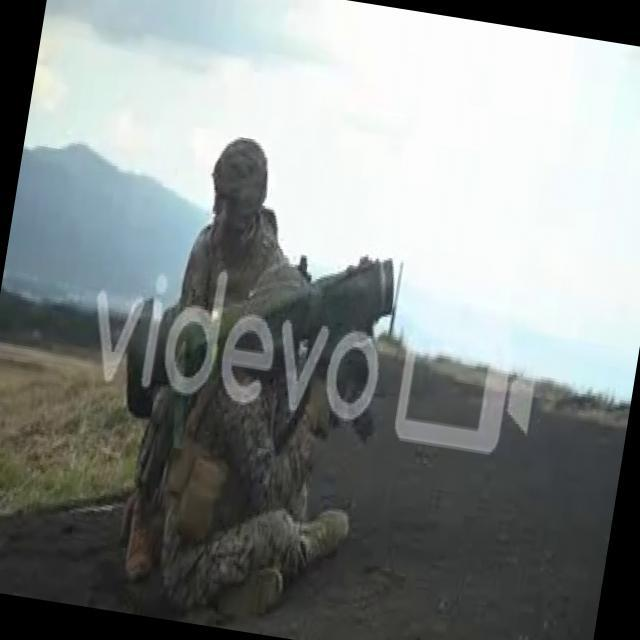rocket: (118, 223, 396, 454)
